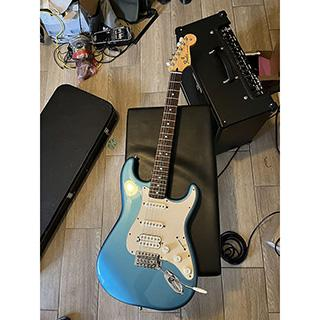Fender Stratocaster: (95, 30, 206, 313)
HSS: (138, 199, 169, 253)
